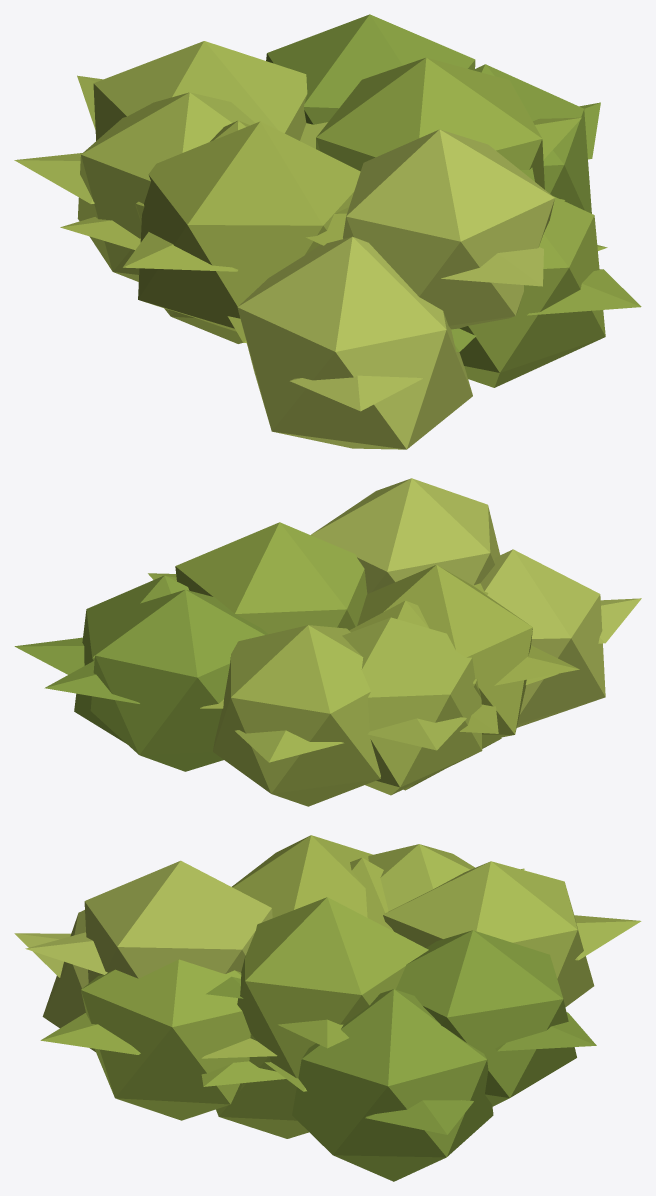
File: Bush_Broad.fbx
3 views of the same model, one above another, from view 1: azimuth 30°, elevation 25°; view 2: azimuth 150°, elevation 25°; view 3: azimuth 270°, elevation 25° (orthographic). The views are drawn at different scales.
Parts seen in each view (by area): view 1: Bush_Broad; view 2: Bush_Broad; view 3: Bush_Broad.
Boxes of the visible parts, <box> form: Bush_Broad: <box>14,14,641,449</box>; Bush_Broad: <box>14,478,641,806</box>; Bush_Broad: <box>14,835,641,1181</box>.
Size of the model in its own units: 158 by 78.11 by 173.
